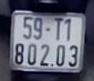0: (26, 42, 38, 67), (55, 43, 66, 67)
1: (64, 17, 73, 42)
2: (39, 43, 51, 67)
3: (68, 44, 78, 68)
5: (22, 15, 33, 41)
8: (14, 42, 25, 66)
9: (33, 16, 44, 42)
T: (53, 17, 64, 41)
